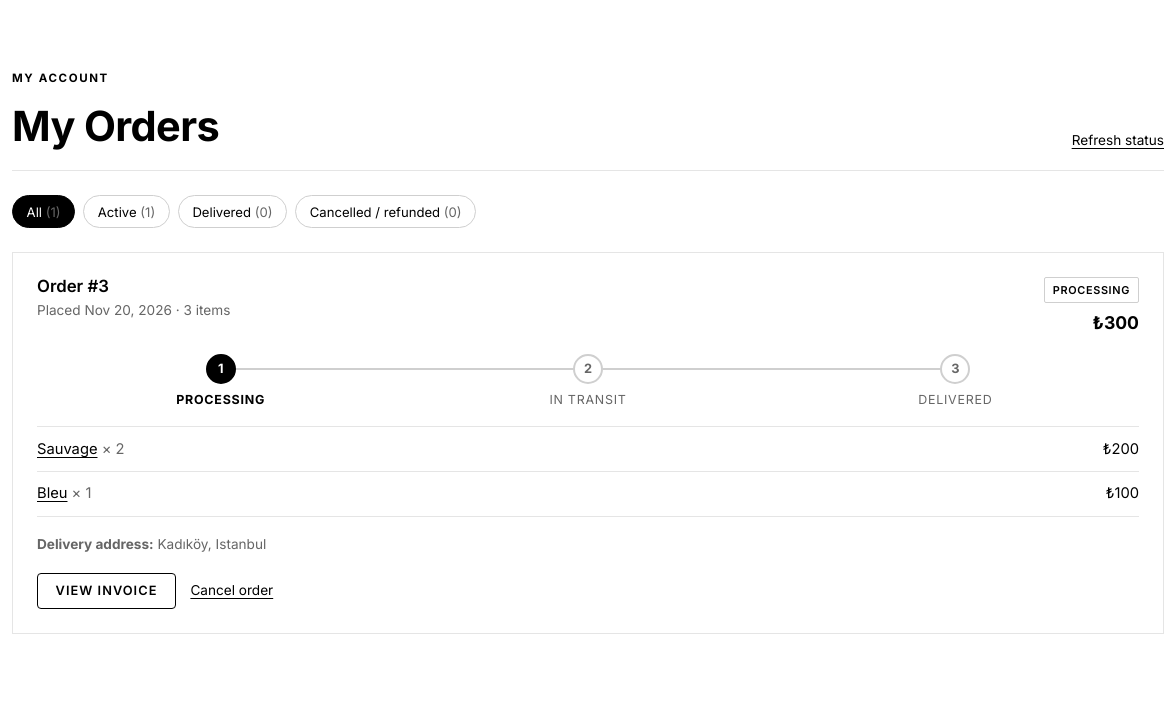
Test: OrdersPage › keeps the order and shows the error when cancelling fails
Click the button "Cancel order".
click(232, 591)  # box [190, 580, 273, 602]
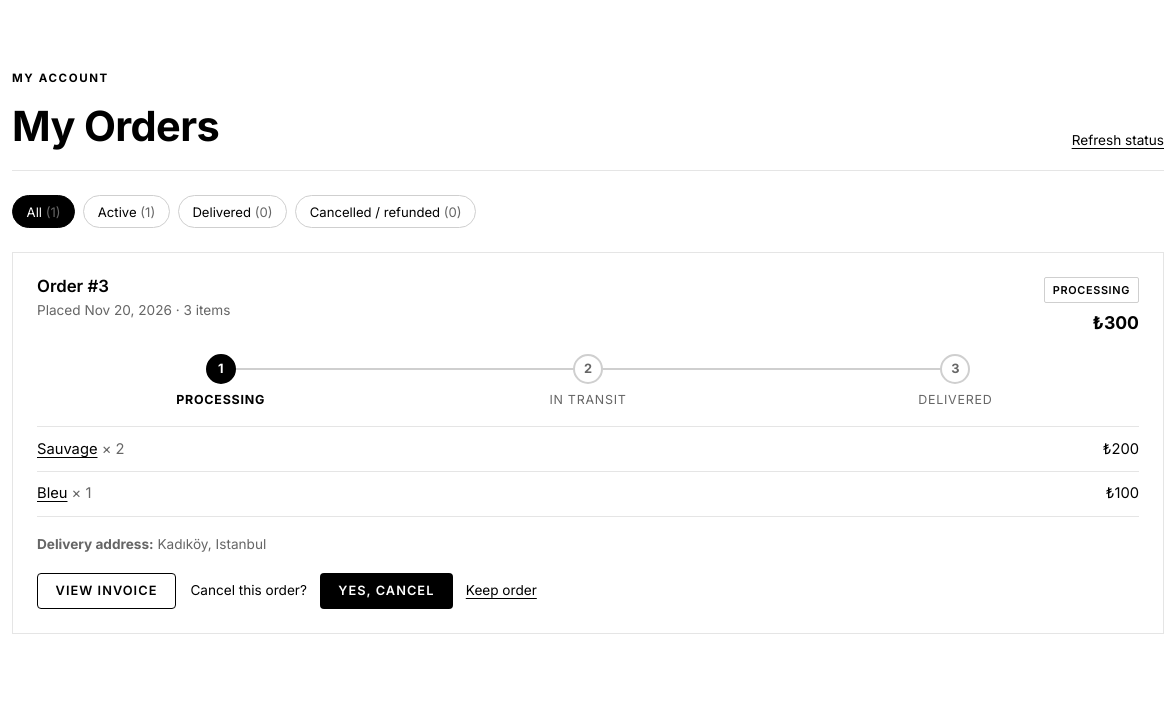
Click the button "Yes, cancel".
click(386, 591)  # box [320, 573, 453, 609]
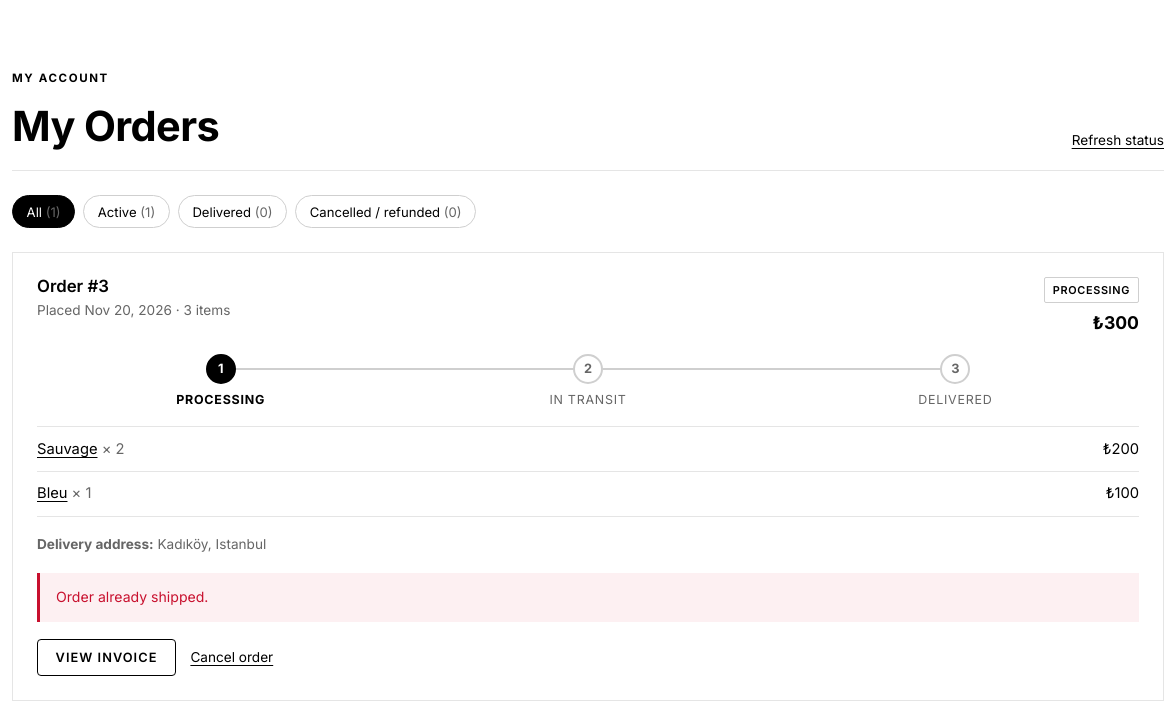
Expected: the list named "Delivery status: Processing" is shown, [176, 354, 992, 406]
Expected: the text "Order already shipped." is shown, [37, 573, 1139, 622]
